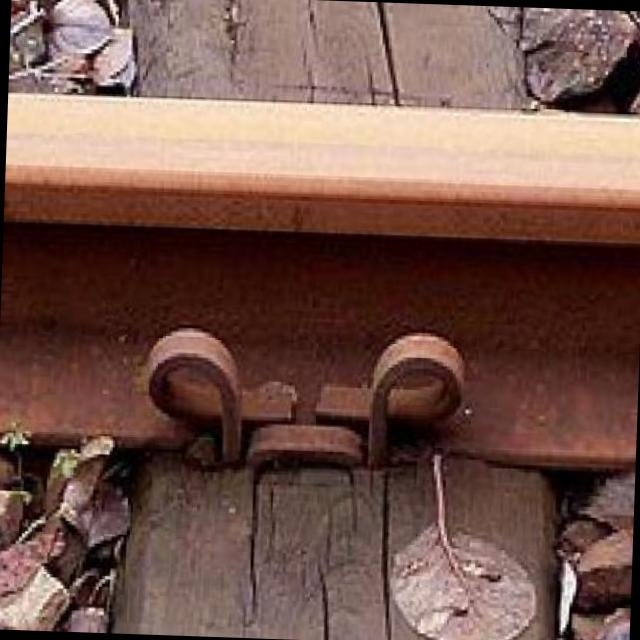defective: (0, 53, 630, 350)
